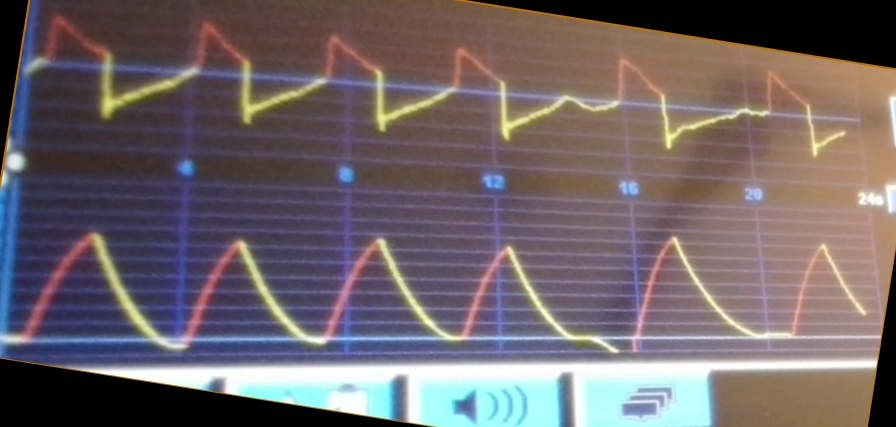Ineffective_effort Flow: (32, 13, 848, 161)
Ineffective_effort Volume: (11, 221, 863, 355)
